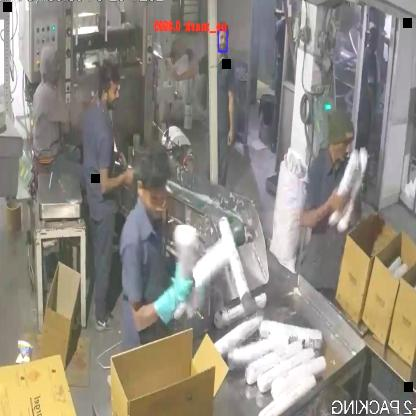glove: (147, 262, 196, 334)
no_glove: (289, 182, 352, 242), (94, 158, 141, 206), (220, 79, 241, 158)
